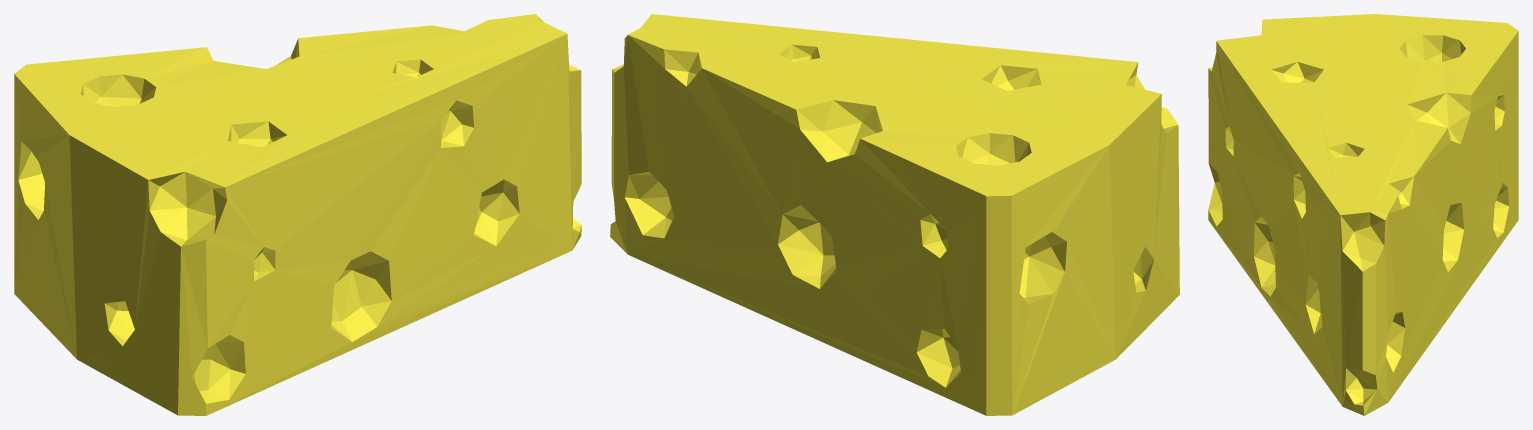
File: Cheese_01.fbx
3 views of the same model, side by side, from view 1: azimuth 30°, elevation 25°; view 2: azimuth 150°, elevation 25°; view 3: azimuth 270°, elevation 25° (orthographic). The views are drawn at different scales.
Visible parts, largest first — view 1: Cheese_01; view 2: Cheese_01; view 3: Cheese_01.
Boxes of the visible parts, box(x1,y1,x2,y2) form: Cheese_01: box(14, 14, 581, 415); Cheese_01: box(610, 14, 1179, 415); Cheese_01: box(1208, 14, 1518, 415).
Bounding box in the file's own units: 16.42 × 6.82 × 10.13.
